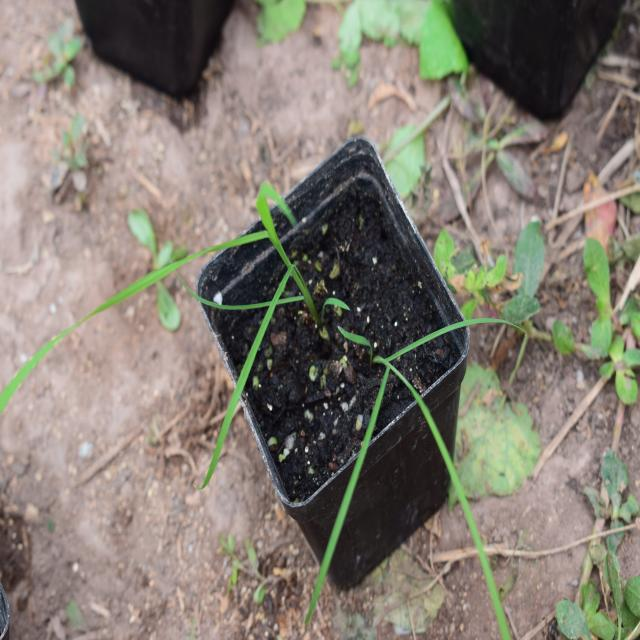barnyard_grass: (16, 128, 345, 413)
